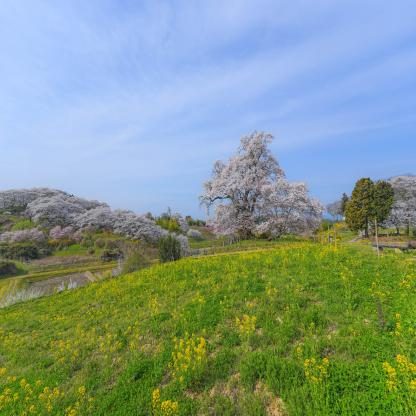EdohiganSakura: (198, 128, 324, 242)
